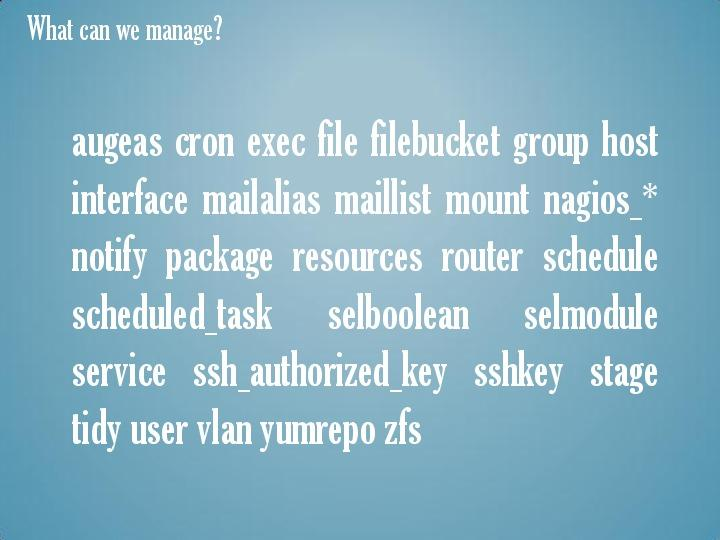paragraph: (60, 102, 692, 475)
title: (14, 5, 239, 61)
